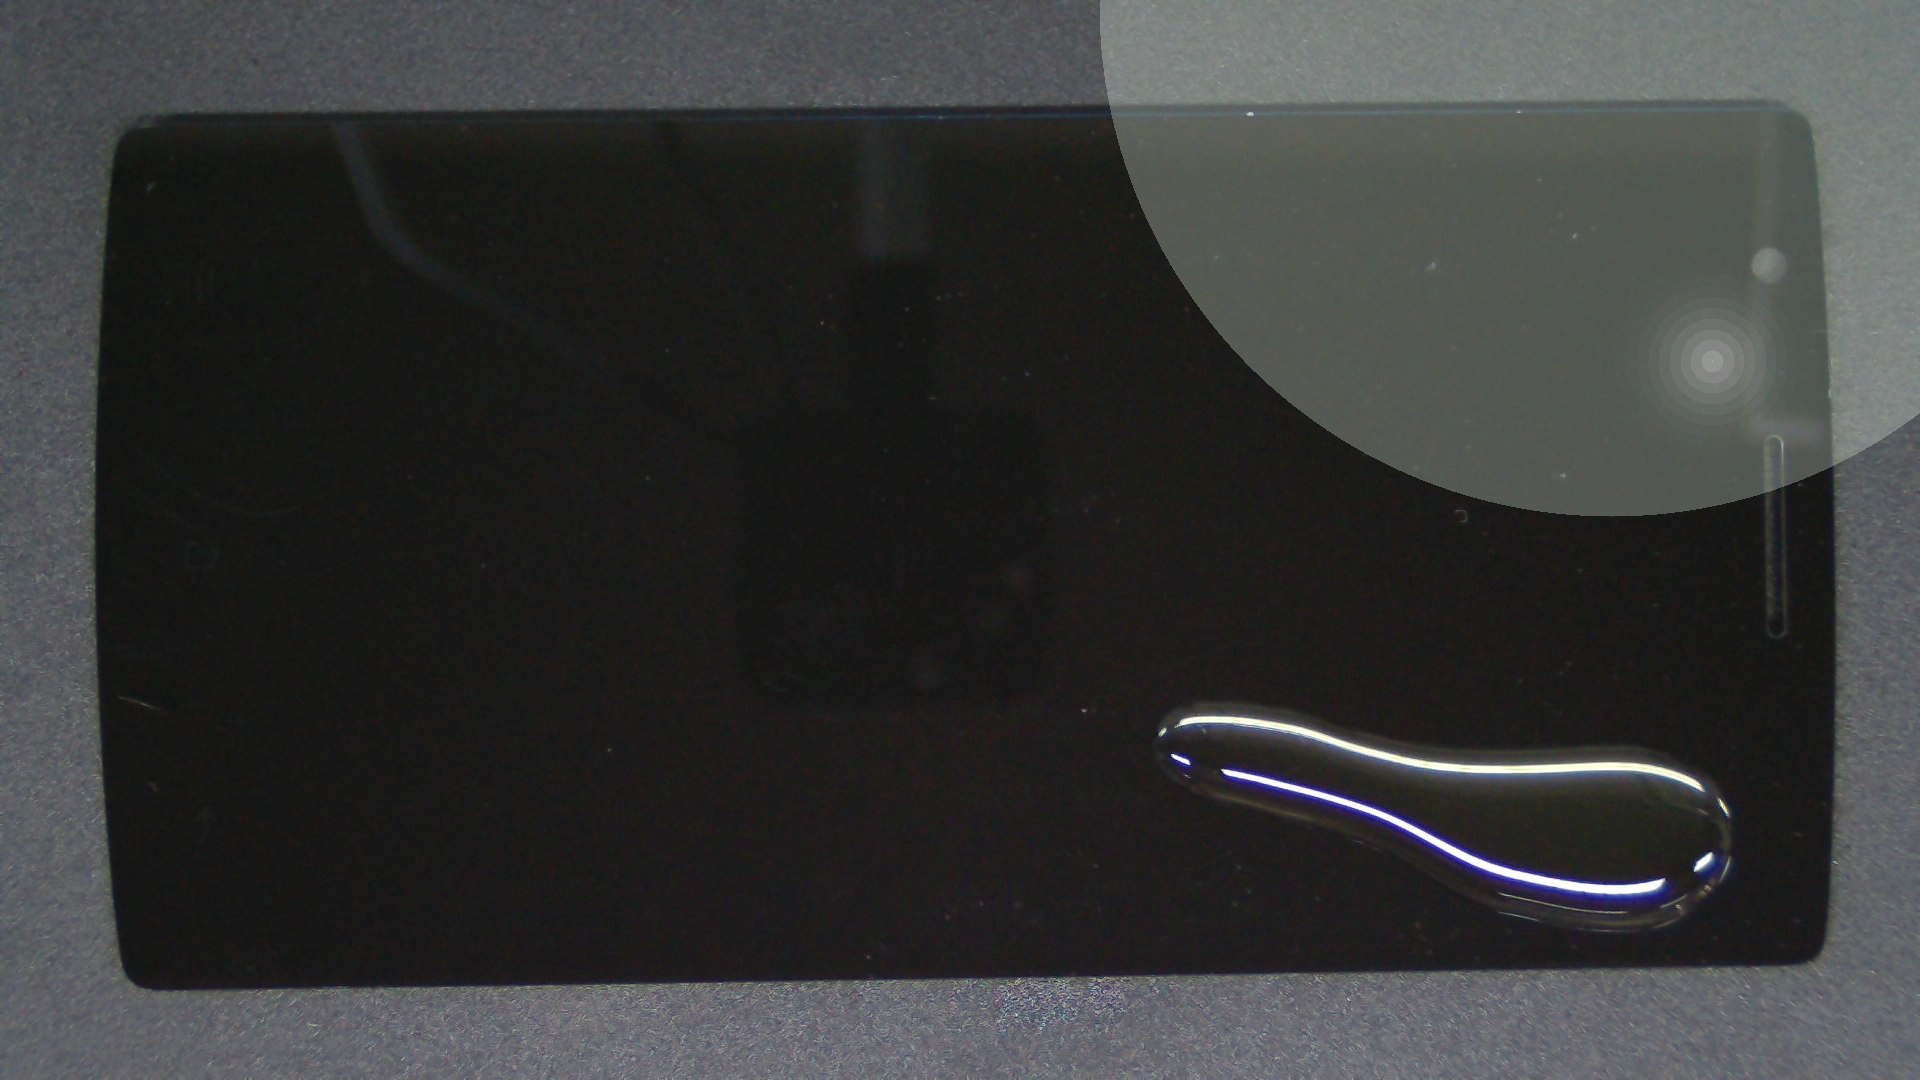oil: (597, 351, 1792, 1055)
